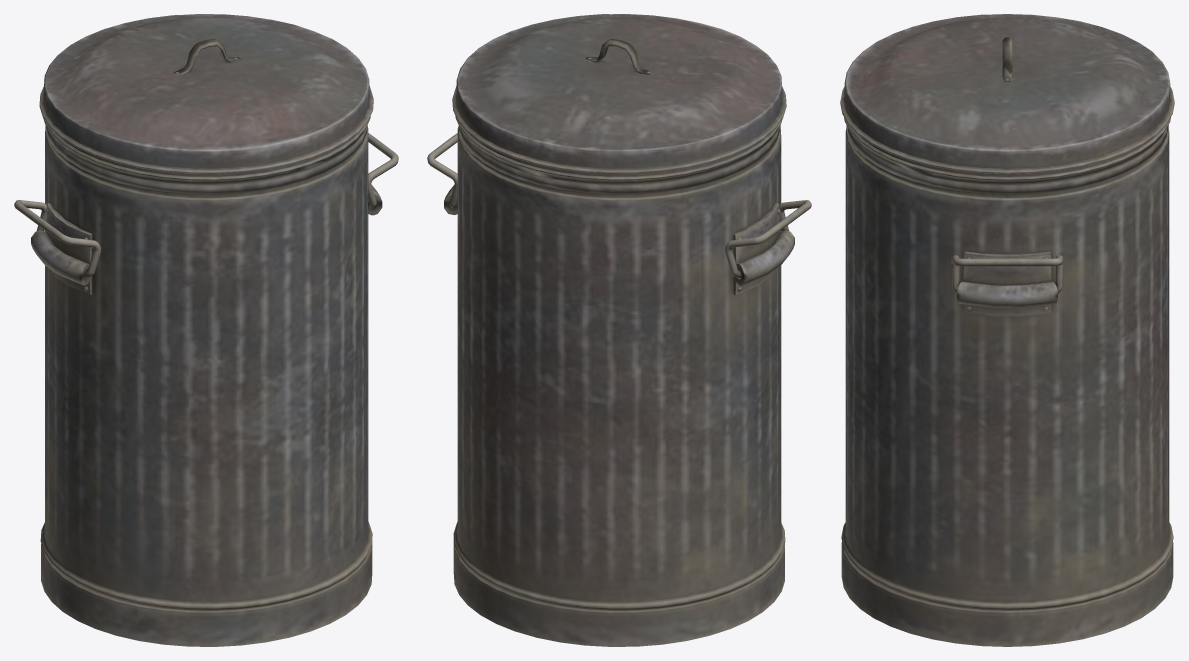
The model's file is metal-trash-can-lod0.glb.
3 renders of one model, left to right at view 1: azimuth 30°, elevation 25°; view 2: azimuth 150°, elevation 25°; view 3: azimuth 270°, elevation 25°, orthographic.
Visible parts, largest first — view 1: metal_trash_can_handle_left; view 2: metal_trash_can_handle_left; view 3: metal_trash_can_handle_left.
Part boxes in pixels (x1,y1,x2,y2): metal_trash_can_handle_left: [14, 14, 398, 646]; metal_trash_can_handle_left: [427, 14, 811, 646]; metal_trash_can_handle_left: [840, 14, 1174, 646].
Bounding box in the file's own units: 0.651 × 0.983 × 0.5563.
Materials: 1 (1 with a texture image).
